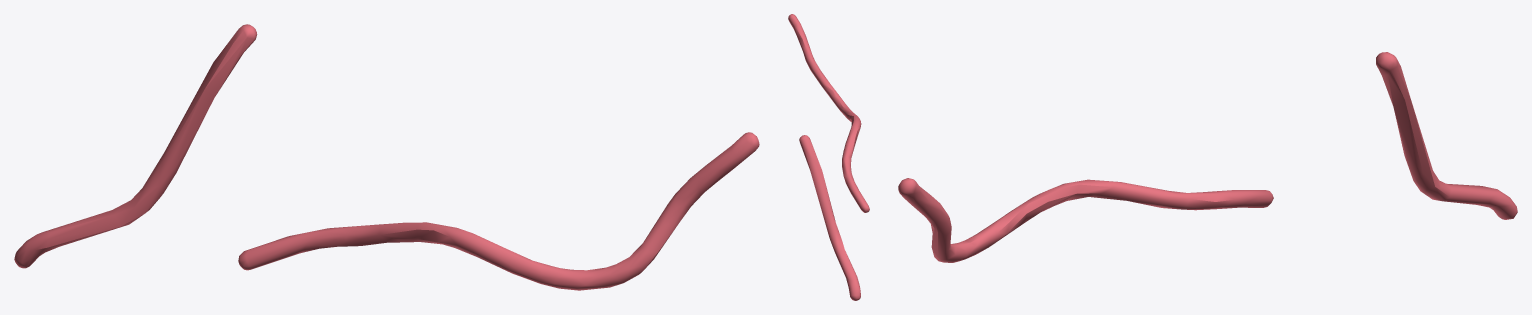
The model's file is fma51240_fj5007.glb.
3 renders of one model, left to right at view 1: azimuth 30°, elevation 25°; view 2: azimuth 150°, elevation 25°; view 3: azimuth 270°, elevation 25°, orthographic. The views are drawn at different scales.
Visible parts, largest first — view 1: FMA51240_FJ5007; view 2: FMA51240_FJ5007; view 3: FMA51240_FJ5007.
Boxes of the visible parts, x1,y1,x2,y2 form: FMA51240_FJ5007: [14, 24, 759, 290]; FMA51240_FJ5007: [788, 14, 869, 300]; FMA51240_FJ5007: [898, 52, 1517, 262].
Bounding box in the file's own units: 0.0341 × 0.0183 × 0.0413.
